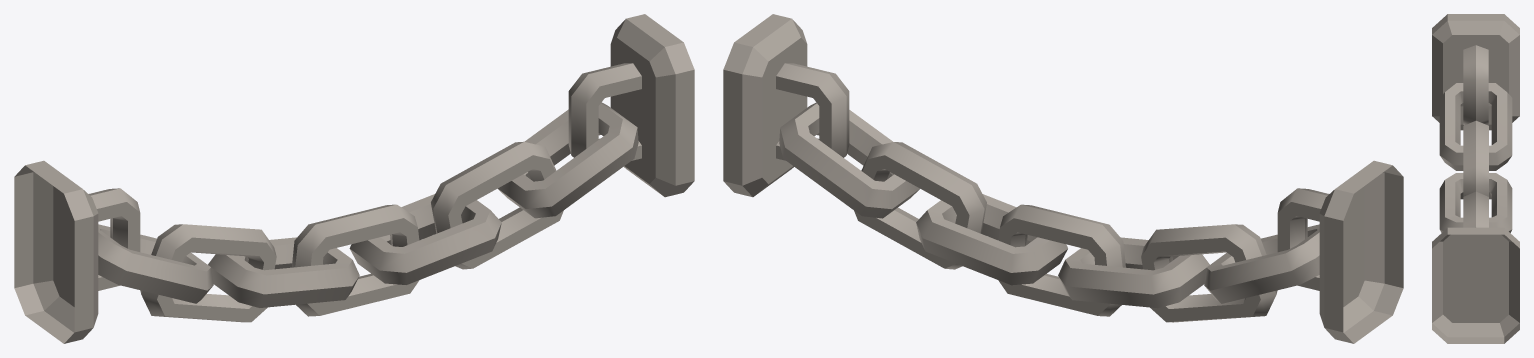
Rendered from m_dec_dung_chainSmall.fbx.
3 renders of one model, left to right at view 1: azimuth 30°, elevation 25°; view 2: azimuth 150°, elevation 25°; view 3: azimuth 270°, elevation 25°, orthographic. The views are drawn at different scales.
Visible parts, largest first — view 1: m_dec_dung_chainSmall; view 2: m_dec_dung_chainSmall; view 3: m_dec_dung_chainSmall.
Part boxes in pixels (<box>): m_dec_dung_chainSmall: <box>14,14,694,343</box>; m_dec_dung_chainSmall: <box>723,14,1403,343</box>; m_dec_dung_chainSmall: <box>1432,14,1519,343</box>.
Size of the model in its own units: 3.33 by 1.03 by 0.5602.
